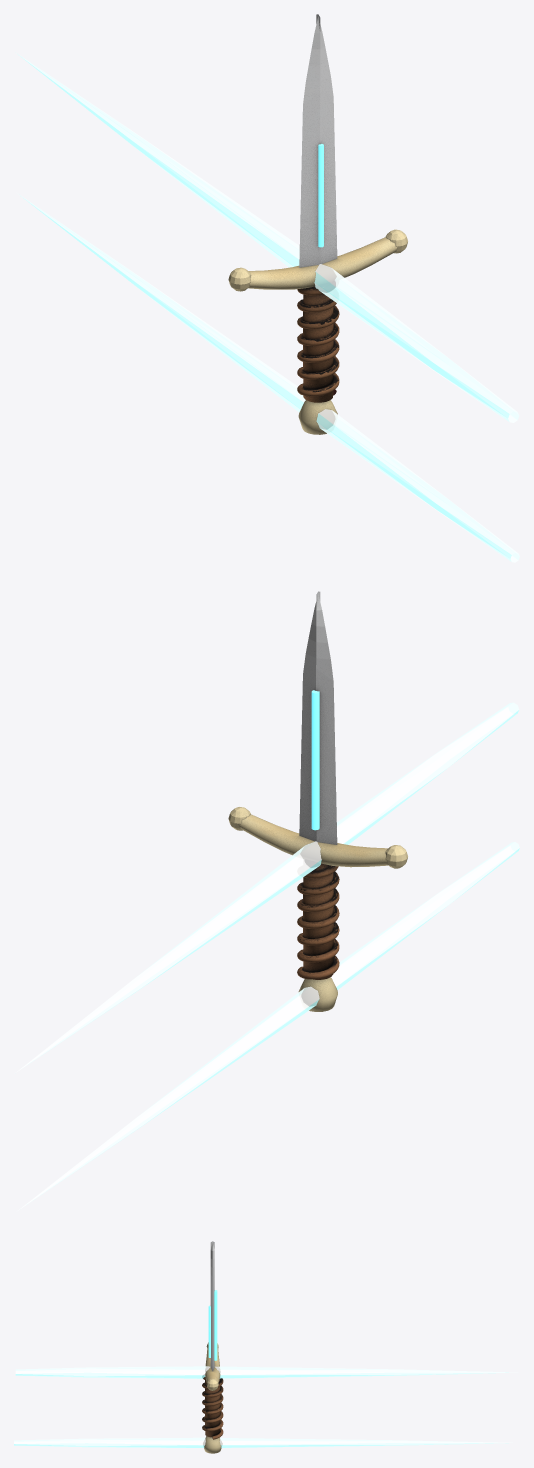
Rendered from arma_adaga_excelente.glb.
3 views of the same model, one above another, from view 1: azimuth 30°, elevation 25°; view 2: azimuth 150°, elevation 25°; view 3: azimuth 270°, elevation 25° (orthographic). The views are drawn at different scales.
Parts seen in each view (by area): view 1: arma_adaga_excelente, guarda_gema, pomo_gema, lamina_runa; view 2: arma_adaga_excelente, guarda_gema, pomo_gema, lamina_runa2; view 3: guarda_gema, pomo_gema, arma_adaga_excelente, lamina_runa2.
Boxes of the visible parts, left/top/right/bottom form: arma_adaga_excelente: left=228, top=14, right=407, bottom=434; guarda_gema: left=15, top=52, right=519, bottom=422; pomo_gema: left=17, top=193, right=519, bottom=562; lamina_runa: left=318, top=143, right=323, bottom=247; arma_adaga_excelente: left=228, top=591, right=407, bottom=1011; guarda_gema: left=16, top=702, right=519, bottom=1072; pomo_gema: left=18, top=842, right=519, bottom=1210; lamina_runa2: left=311, top=690, right=319, bottom=830; guarda_gema: left=15, top=1366, right=517, bottom=1378; pomo_gema: left=14, top=1437, right=512, bottom=1447; arma_adaga_excelente: left=202, top=1241, right=223, bottom=1453; lamina_runa2: left=214, top=1290, right=217, bottom=1360.
Bounding box in the file's own units: 0.204 × 0.461 × 1.
Materials: 5 (1 with a texture image).
